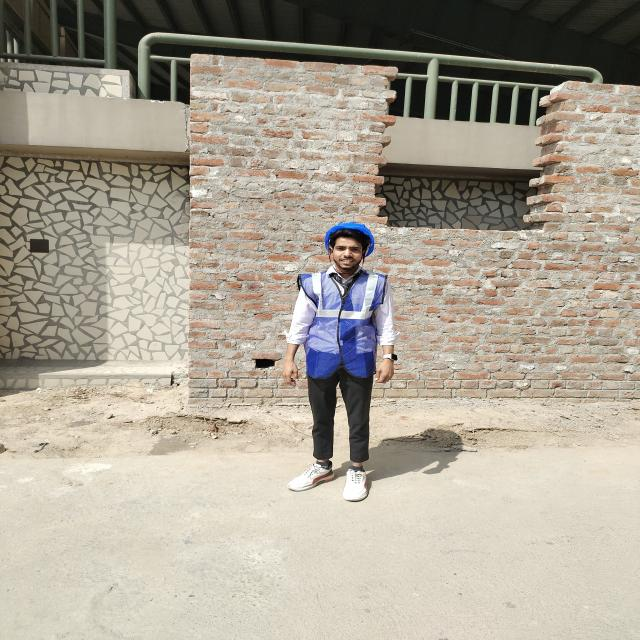safe: (284, 222, 394, 500)
